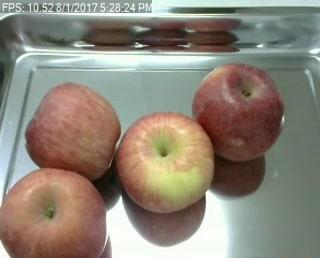Apple: (116, 110, 213, 214), (23, 82, 122, 182), (1, 168, 109, 257), (192, 62, 287, 162)
